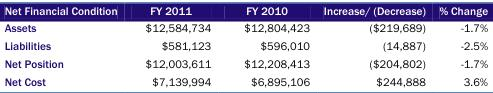table: (3, 4, 487, 87)
table column: (3, 4, 130, 87), (315, 4, 431, 87), (130, 4, 226, 87), (226, 4, 315, 87), (431, 4, 487, 87)
table column header: (3, 4, 487, 18)
table row: (3, 35, 487, 53), (3, 53, 487, 71), (3, 18, 487, 35), (3, 71, 487, 87), (3, 4, 487, 18)
